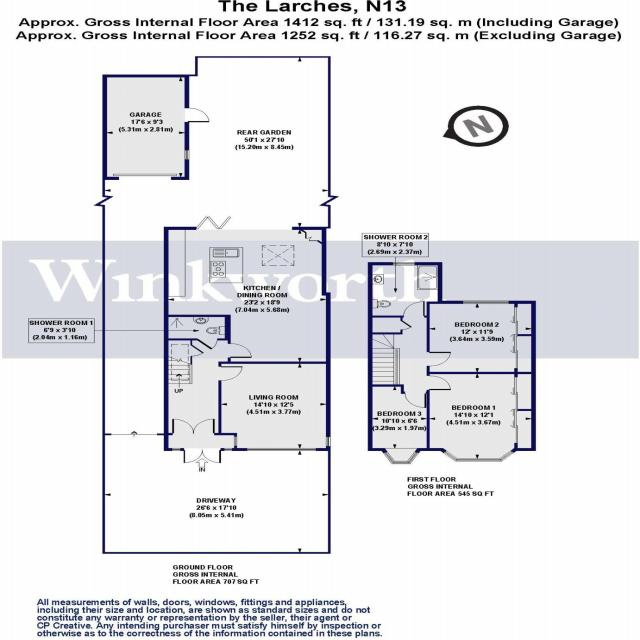DOOR: (404, 391, 427, 408), (426, 375, 451, 390), (426, 351, 451, 366), (218, 366, 243, 381), (403, 301, 425, 318), (228, 343, 252, 358), (196, 338, 218, 350)
FOLDING DOOR: (193, 213, 291, 231)
ROOM: (164, 216, 331, 364), (218, 361, 331, 451), (426, 372, 536, 462), (426, 300, 536, 374), (367, 384, 430, 464)
WINDOW: (443, 450, 515, 462), (383, 451, 420, 464), (246, 448, 316, 451), (462, 300, 509, 304), (392, 262, 415, 265), (326, 436, 331, 447), (234, 436, 237, 446), (224, 448, 232, 451)
